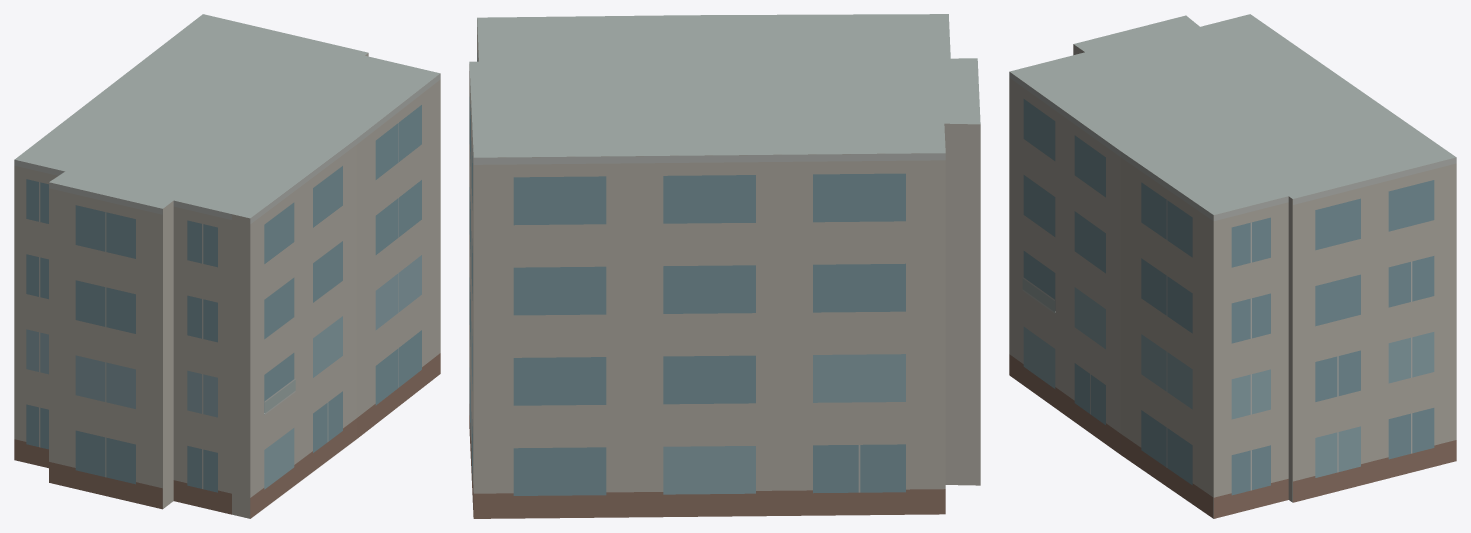
File: survey-upis-32529440.glb
3 views of the same model, side by side, from view 1: azimuth 30°, elevation 25°; view 2: azimuth 150°, elevation 25°; view 3: azimuth 270°, elevation 25° (orthographic). The views are drawn at different scales.
Parts seen in each view (by area): view 1: survey-upis-32529440.tmp; view 2: survey-upis-32529440.tmp; view 3: survey-upis-32529440.tmp.
Part boxes in pixels (<box>): survey-upis-32529440.tmp: <box>14,14,440,518</box>; survey-upis-32529440.tmp: <box>469,14,980,518</box>; survey-upis-32529440.tmp: <box>1009,14,1456,518</box>.
Bounding box in the file's own units: 17.34 × 12.2 × 16.29.
